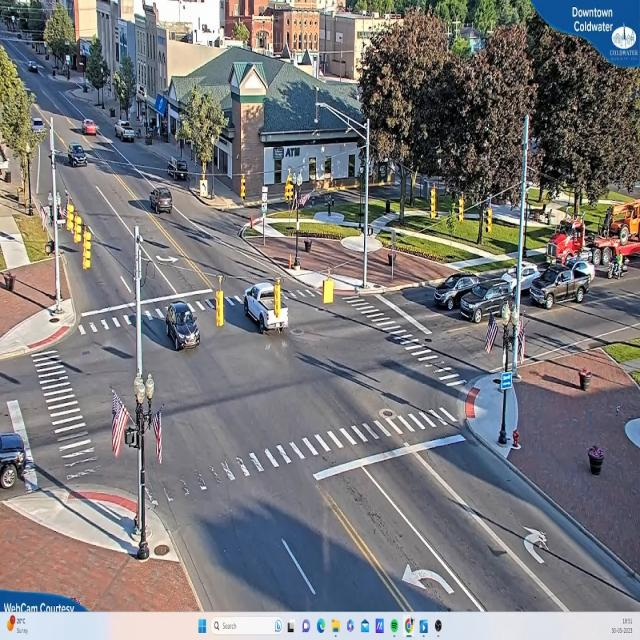car: (530, 265, 590, 309), (240, 283, 291, 330), (460, 279, 513, 323), (161, 303, 202, 356), (432, 271, 468, 308), (500, 261, 540, 294), (150, 189, 173, 213), (118, 121, 137, 145), (69, 147, 87, 166), (84, 120, 98, 136), (33, 118, 46, 132), (28, 62, 40, 73)
